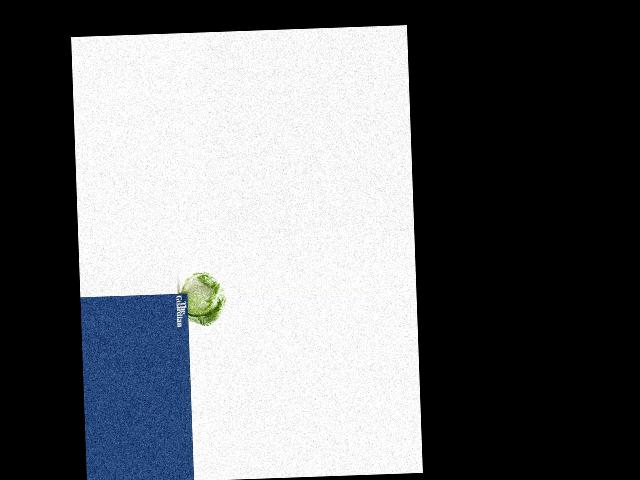lettuce: (180, 272, 229, 325)
